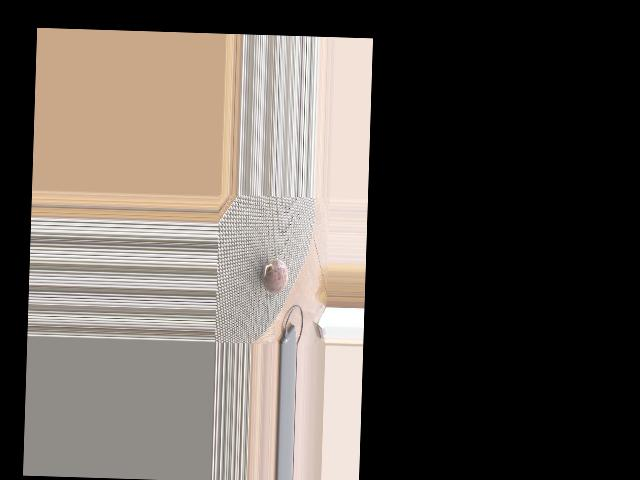beet: (261, 259, 288, 294)
